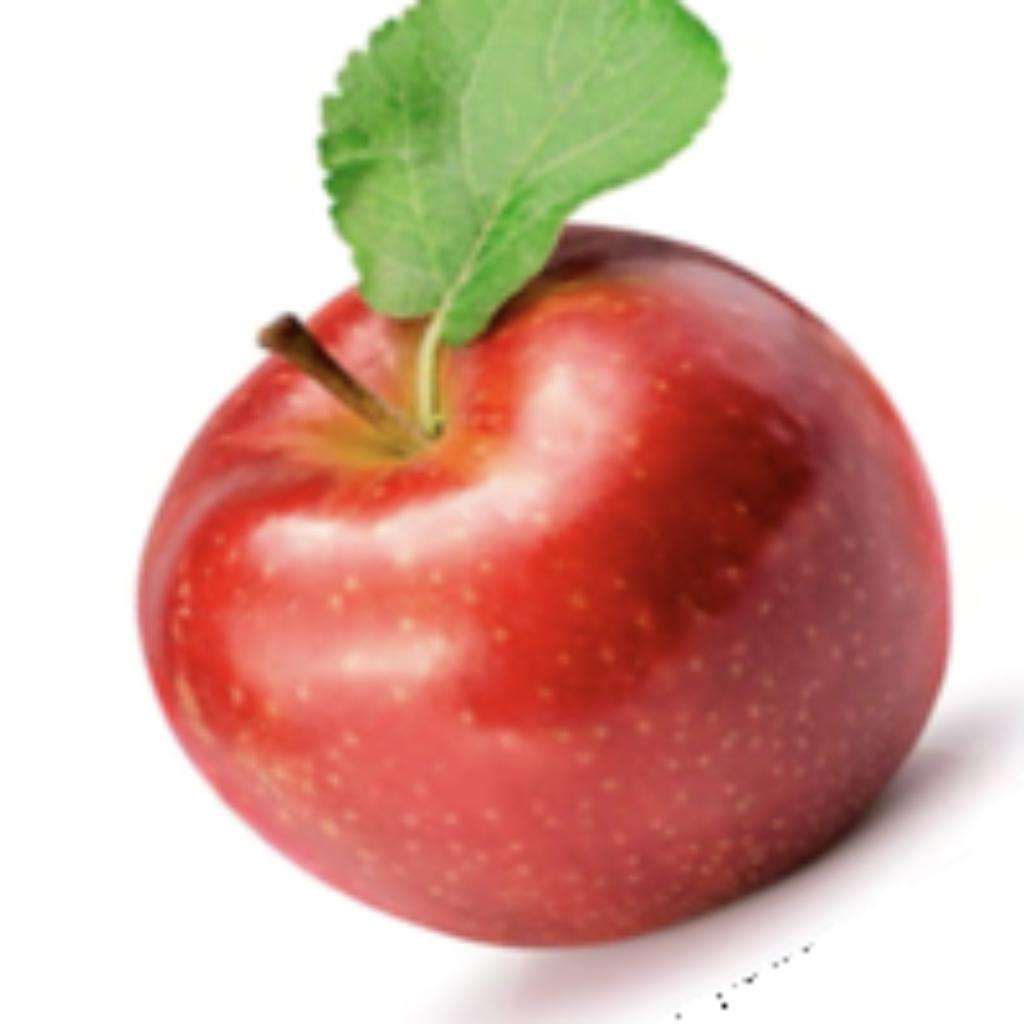apple: (128, 0, 1019, 1019)
